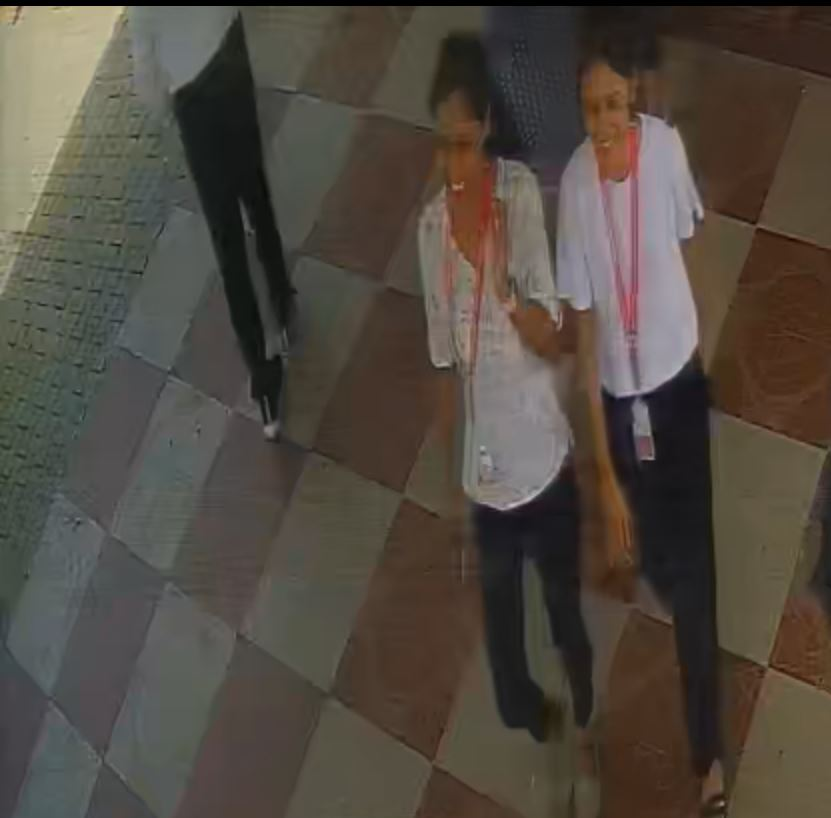not intruder: (558, 42, 755, 815), (406, 16, 604, 770)
